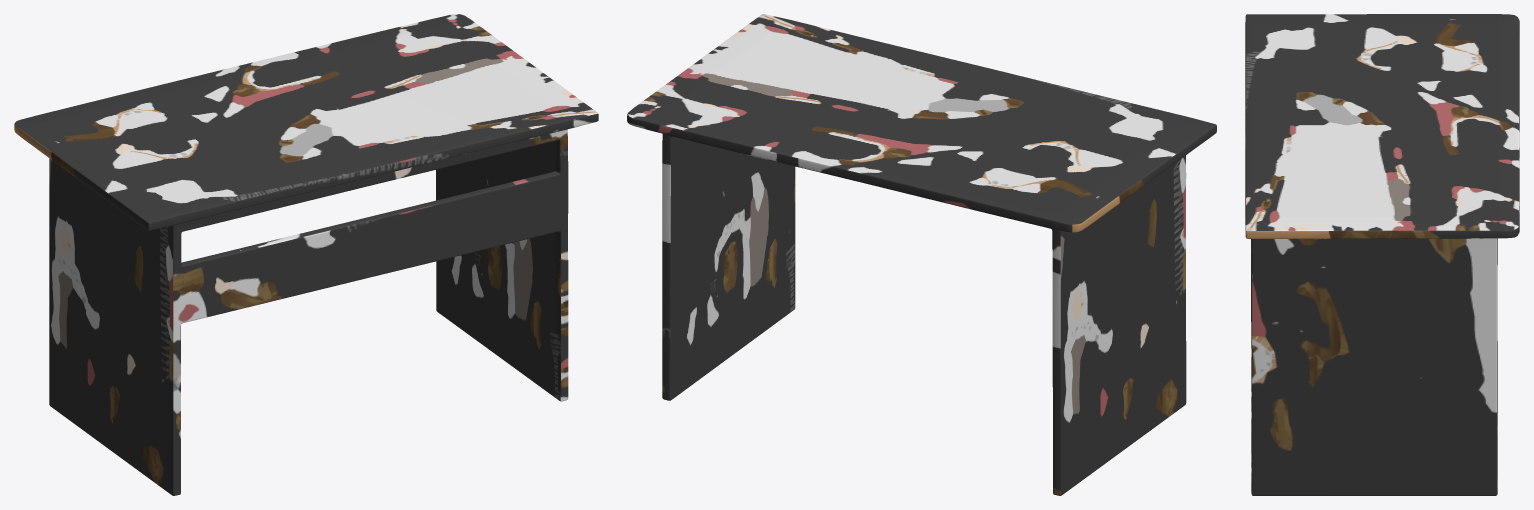
File: table.fbx
3 views of the same model, side by side, from view 1: azimuth 30°, elevation 25°; view 2: azimuth 150°, elevation 25°; view 3: azimuth 270°, elevation 25° (orthographic). The views are drawn at different scales.
Visible parts, largest first — view 1: table1; view 2: table1; view 3: table1.
Boxes of the visible parts, <box> form: table1: <box>14,14,598,495</box>; table1: <box>627,14,1216,495</box>; table1: <box>1245,14,1519,495</box>.
Size of the model in its own units: 36.03 by 21.69 by 19.24.
